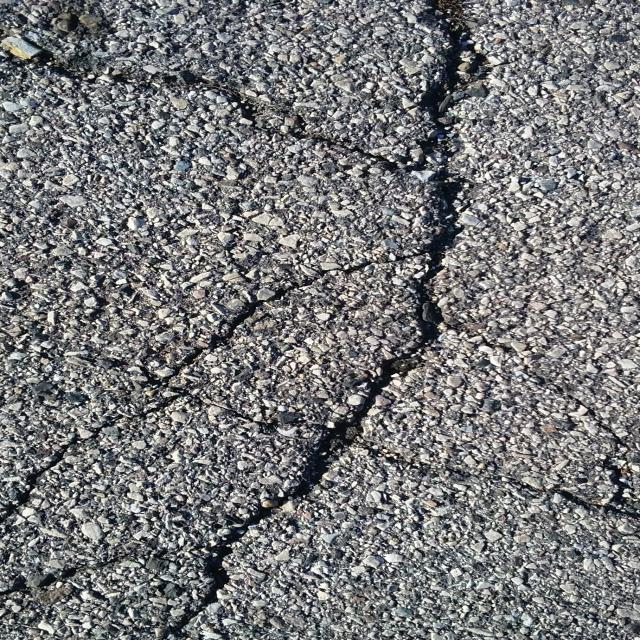Crack: (0, 0, 496, 640), (438, 362, 640, 520)
